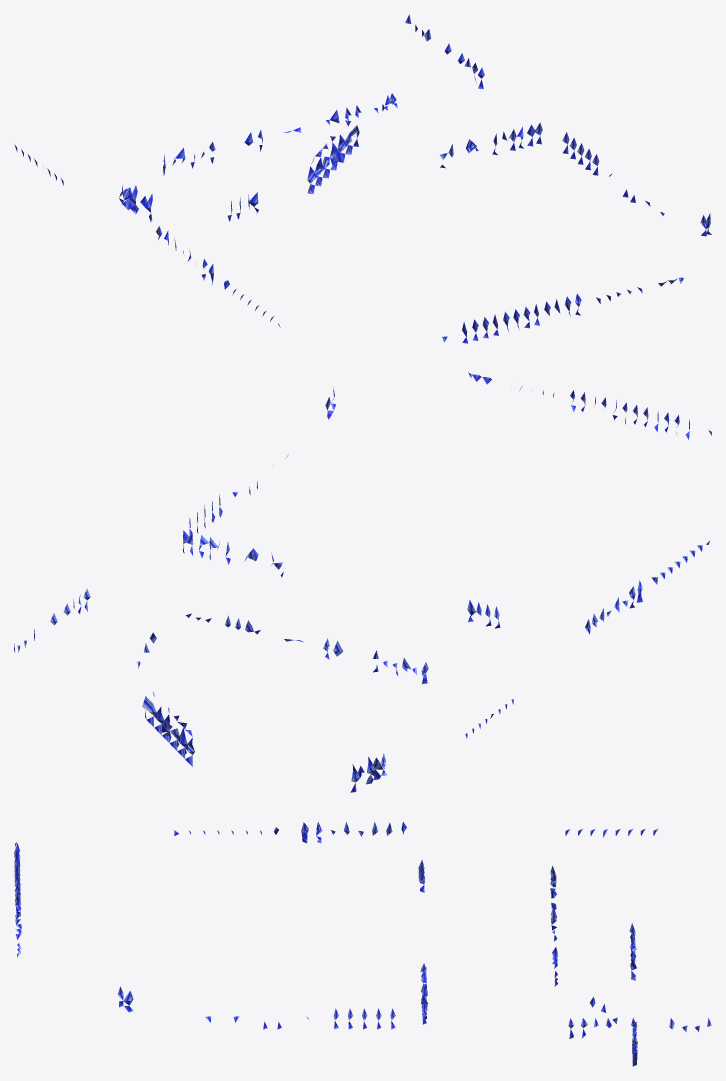
3 renders of one model, top to bottom at view 1: azimuth 30°, elevation 25°; view 2: azimuth 150°, elevation 25°; view 3: azimuth 270°, elevation 25°, orthographic. The views are drawn at different scales.
Size of the model in its own units: 0.8241 by 0.2805 by 1.23.
Materials: 1 (1 with a texture image).
